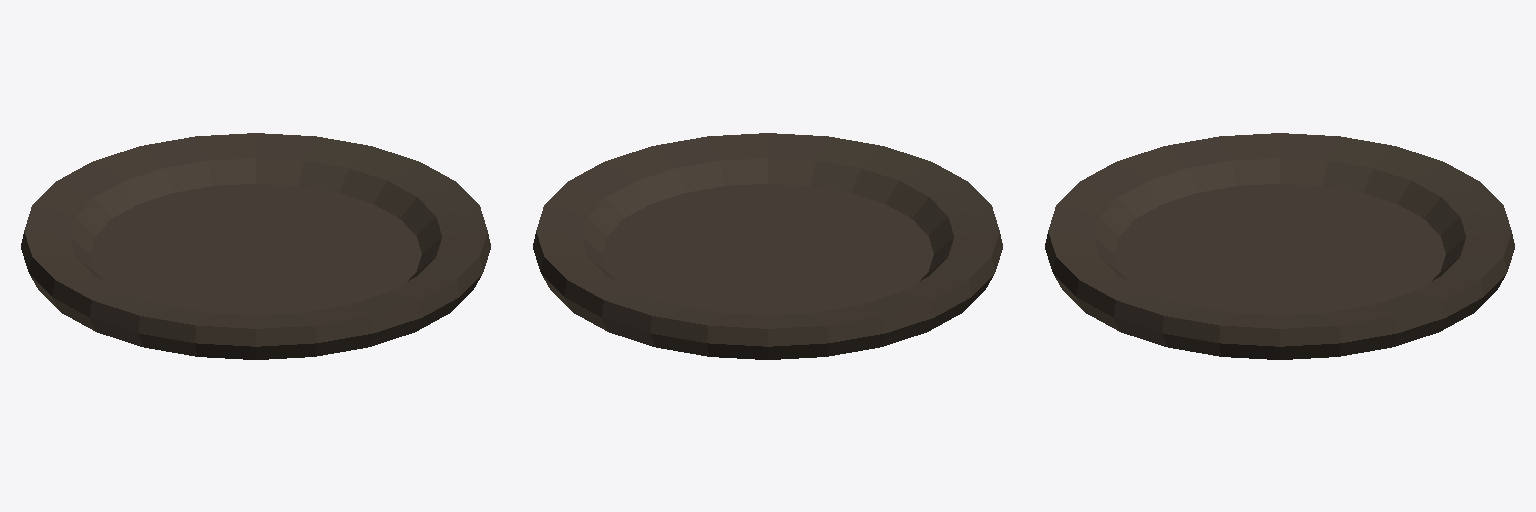
File: plate.obj
3 views of the same model, side by side, from view 1: azimuth 30°, elevation 25°; view 2: azimuth 150°, elevation 25°; view 3: azimuth 270°, elevation 25° (orthographic).
Visible parts, largest first — view 1: plate_Cylinder.250; view 2: plate_Cylinder.250; view 3: plate_Cylinder.250.
Part boxes in pixels (left/top/right/bottom): plate_Cylinder.250: left=21, top=133, right=490, bottom=359; plate_Cylinder.250: left=533, top=133, right=1002, bottom=359; plate_Cylinder.250: left=1045, top=133, right=1514, bottom=359.
Bounding box in the file's own units: 0.6587 × 0.0773 × 0.6587.